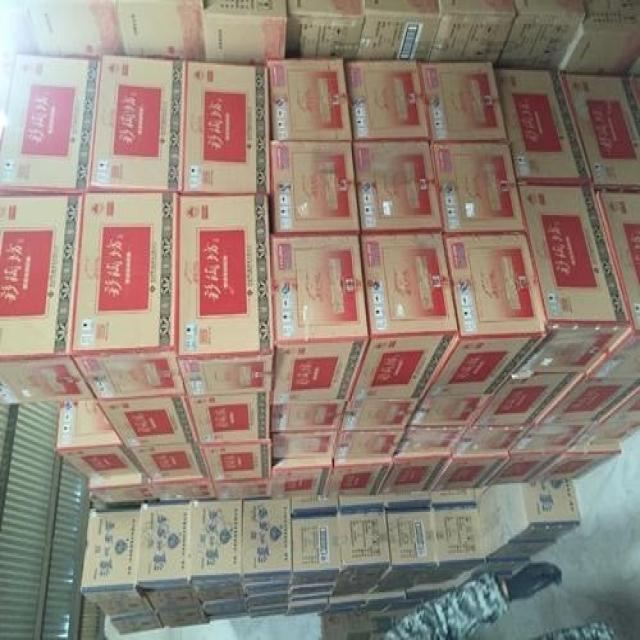box: (69, 193, 186, 399), (515, 186, 628, 374), (425, 230, 548, 398), (0, 193, 96, 404), (175, 195, 273, 394), (348, 229, 458, 401), (271, 232, 370, 403), (0, 51, 101, 195), (86, 55, 186, 193), (493, 68, 593, 188), (182, 61, 269, 195), (581, 193, 640, 381), (561, 73, 640, 193), (429, 142, 529, 236), (270, 140, 362, 234), (352, 138, 443, 232), (408, 488, 485, 594), (81, 509, 152, 618), (55, 399, 146, 481), (266, 56, 352, 142), (417, 61, 508, 142), (136, 500, 198, 616), (371, 490, 436, 597), (346, 60, 429, 140), (467, 372, 582, 427), (492, 0, 585, 68), (559, 0, 640, 73), (95, 396, 200, 452), (530, 372, 640, 425), (189, 500, 246, 602), (333, 495, 390, 597), (477, 486, 556, 558), (493, 480, 581, 544), (116, 0, 205, 63), (204, 0, 287, 67), (430, 0, 517, 63), (26, 0, 122, 55), (356, 0, 439, 63), (186, 393, 273, 449), (285, 0, 365, 60), (243, 495, 292, 584), (291, 498, 340, 587), (378, 452, 453, 497), (430, 449, 511, 490), (535, 445, 622, 481), (323, 456, 394, 500), (125, 445, 209, 481), (486, 451, 564, 486), (339, 401, 424, 433), (200, 445, 271, 483), (270, 457, 332, 500), (271, 398, 347, 433), (408, 394, 485, 427), (593, 382, 640, 430), (509, 425, 591, 452), (396, 425, 467, 456), (330, 432, 406, 459), (88, 473, 156, 503), (453, 427, 530, 451), (563, 428, 639, 452), (273, 432, 338, 459), (150, 474, 215, 500), (319, 614, 370, 640), (152, 609, 210, 630), (108, 614, 163, 635), (215, 478, 270, 498), (358, 594, 407, 616), (320, 597, 371, 618), (289, 585, 334, 608), (196, 601, 247, 621), (247, 594, 289, 618), (244, 584, 289, 601)
